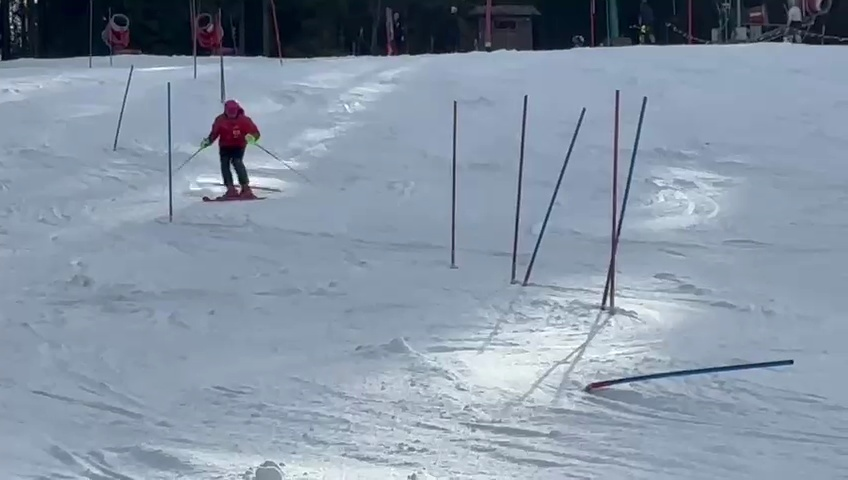gate: (557, 328, 836, 428), (562, 336, 788, 403), (521, 98, 591, 291), (599, 83, 648, 322), (508, 88, 530, 285), (445, 92, 465, 272), (159, 78, 181, 226), (108, 61, 135, 157), (213, 8, 230, 109), (267, 0, 289, 68), (186, 0, 202, 80), (82, 0, 97, 72), (104, 8, 118, 68), (382, 4, 395, 61)
